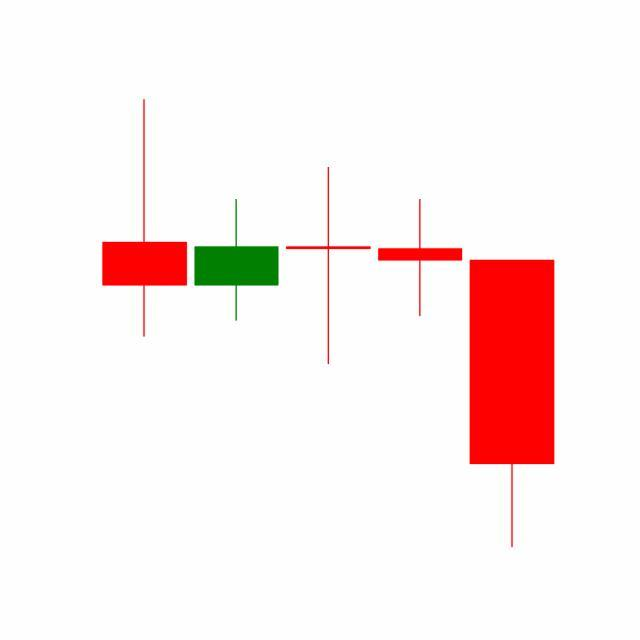Spinning Top: (374, 198, 468, 319)
